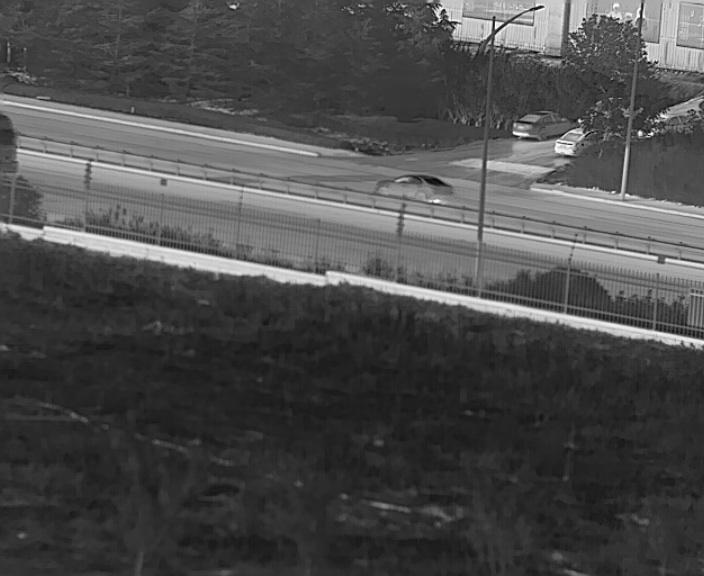vehicle: (374, 173, 452, 204), (512, 110, 563, 139), (554, 127, 583, 156)
